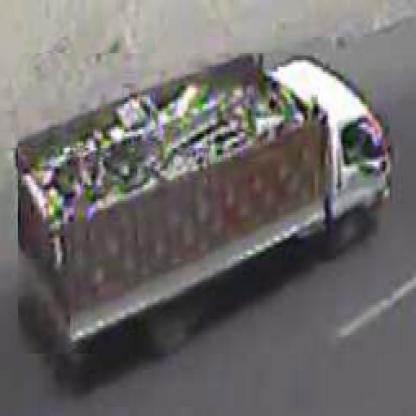truck: (18, 54, 393, 357)
